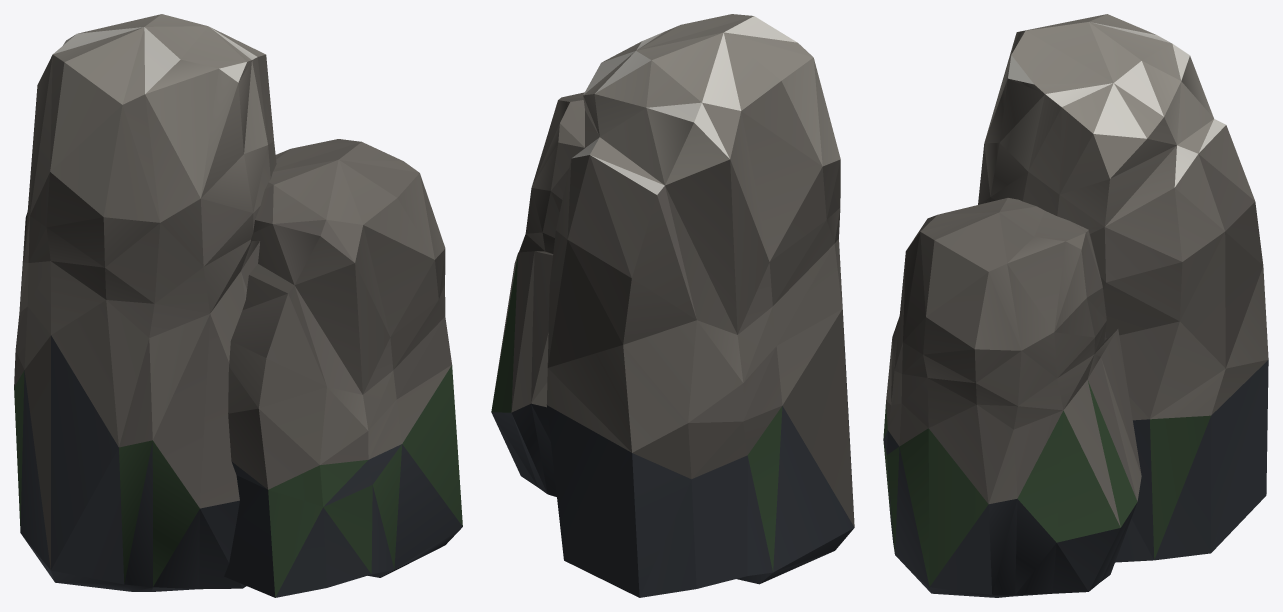
Rendered from Sea_Stack_A.glb.
3 renders of one model, left to right at view 1: azimuth 30°, elevation 25°; view 2: azimuth 150°, elevation 25°; view 3: azimuth 270°, elevation 25°, orthographic. The views are drawn at different scales.
Parts seen in each view (by area): view 1: Sea_Stack_A; view 2: Sea_Stack_A; view 3: Sea_Stack_A.
Boxes of the visible parts, x1,y1,x2,y2 form: Sea_Stack_A: (14, 14, 462, 597); Sea_Stack_A: (491, 14, 854, 597); Sea_Stack_A: (883, 14, 1268, 597).
Bounding box in the file's own units: 2.3 × 3.21 × 2.25.
